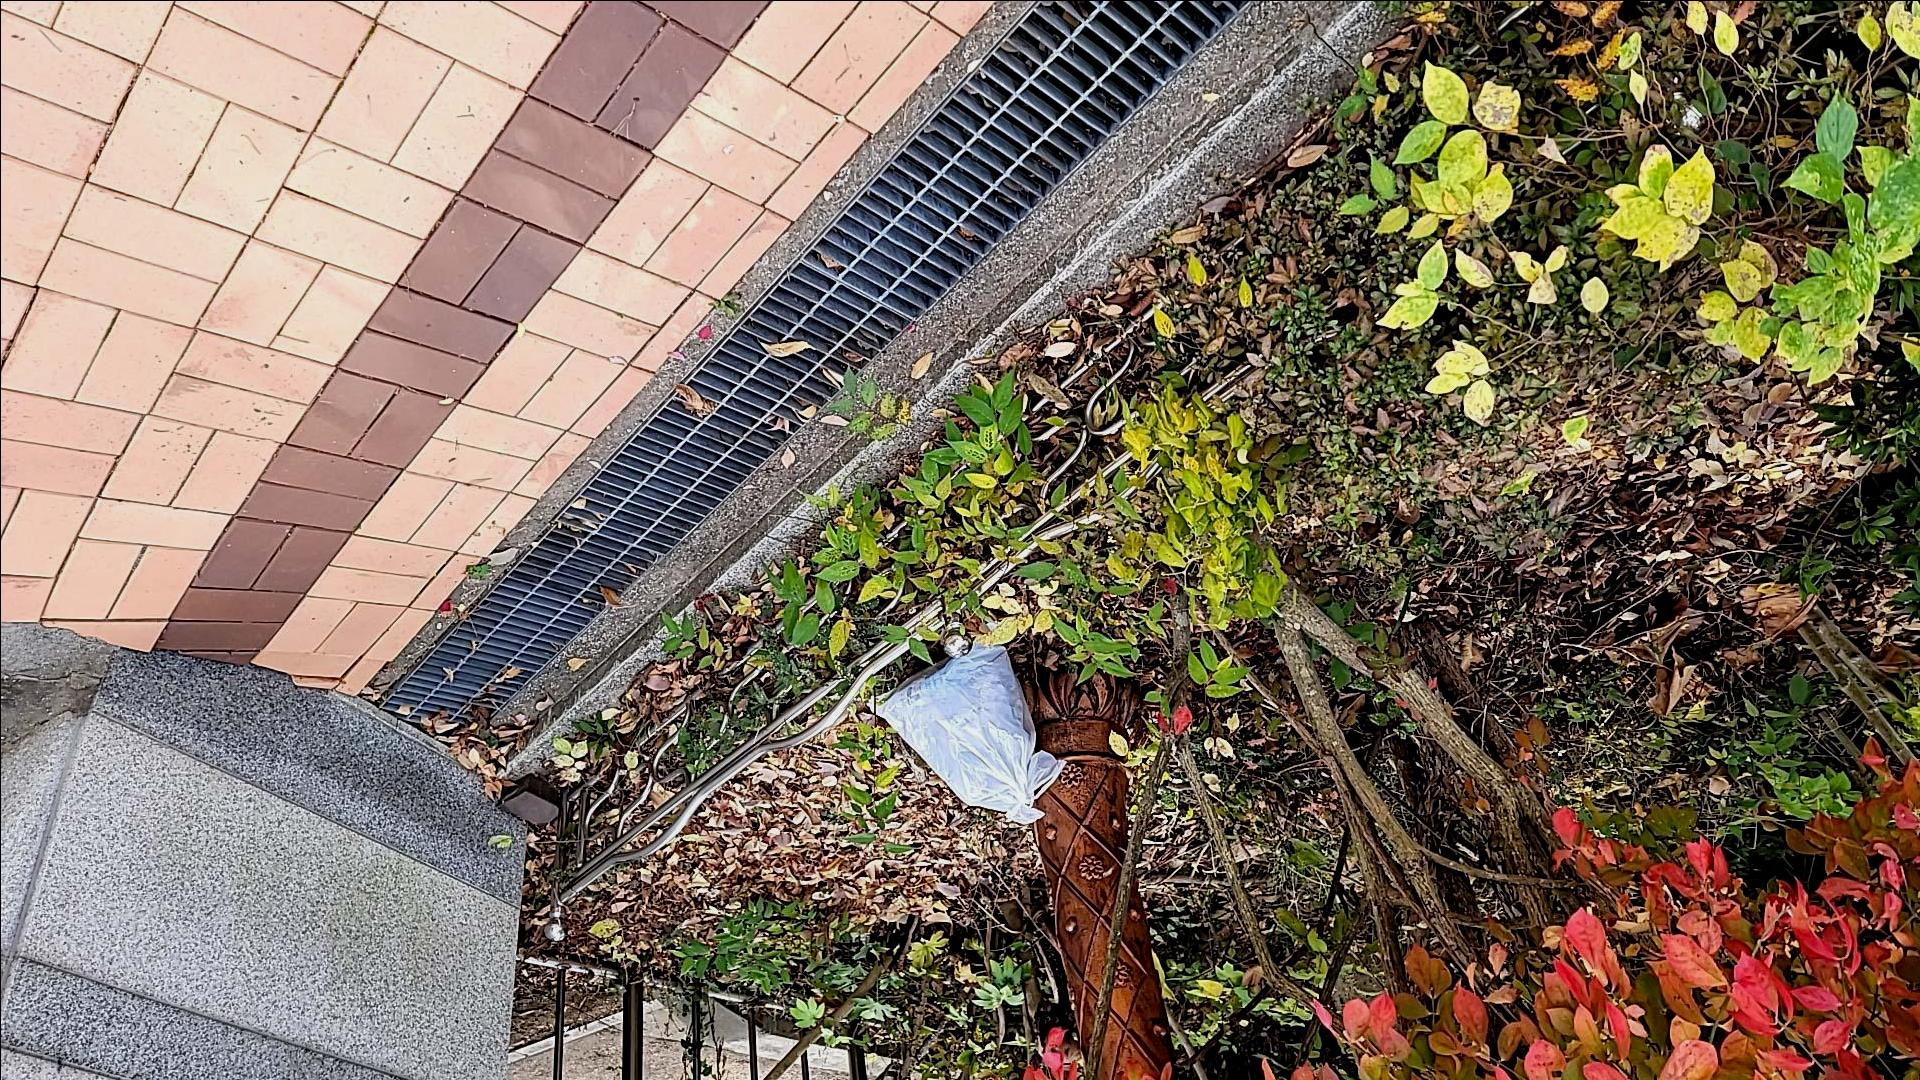white_bag: (861, 647, 1067, 833)
